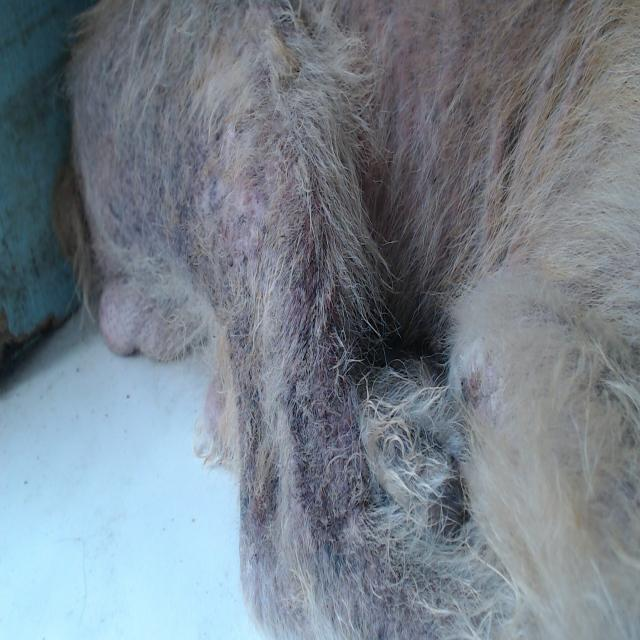demodicosis: (236, 318, 362, 604), (92, 92, 296, 267), (379, 18, 458, 121), (451, 362, 497, 427)
